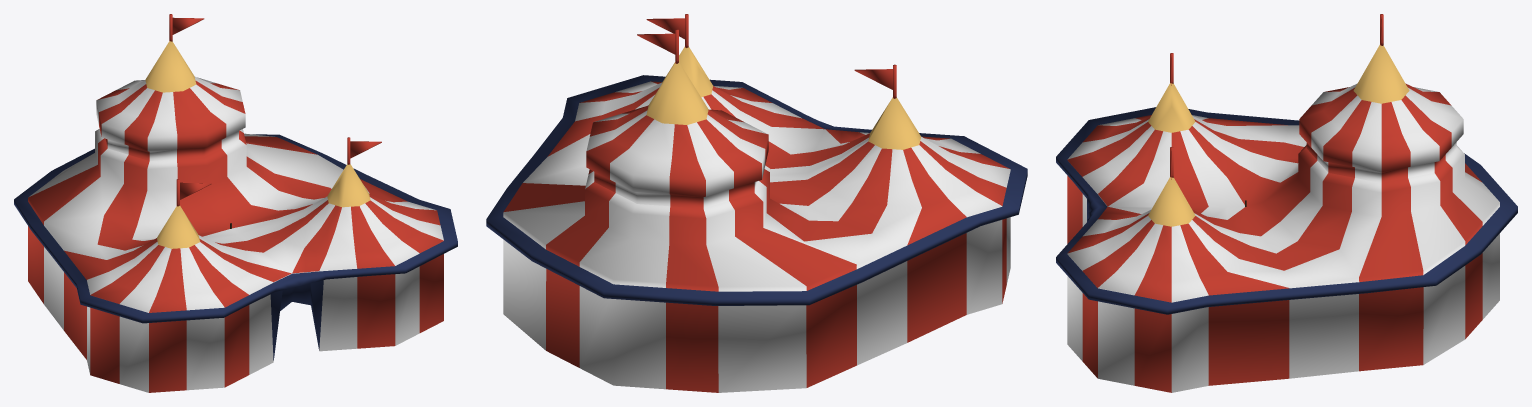
The model's file is circus tent 1.fbx.
3 renders of one model, left to right at view 1: azimuth 30°, elevation 25°; view 2: azimuth 150°, elevation 25°; view 3: azimuth 270°, elevation 25°, orthographic. The views are drawn at different scales.
Parts seen in each view (by area): view 1: Tent, Flags; view 2: Tent, Flags; view 3: Tent.
Boxes of the visible parts, x1=… form: Tent: x1=14, y1=41, x2=457, y2=392; Flags: x1=169, y1=14, x2=381, y2=206; Tent: x1=486, y1=46, x2=1027, y2=392; Flags: x1=637, y1=14, x2=896, y2=98; Tent: x1=1056, y1=45, x2=1517, y2=392.
Bounding box in the file's own units: 5601 × 3659 × 5357.
